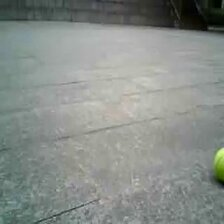tennis: (214, 149, 224, 179)
